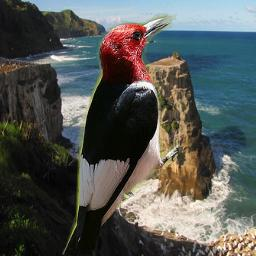Woodpecker: (59, 13, 178, 255)
